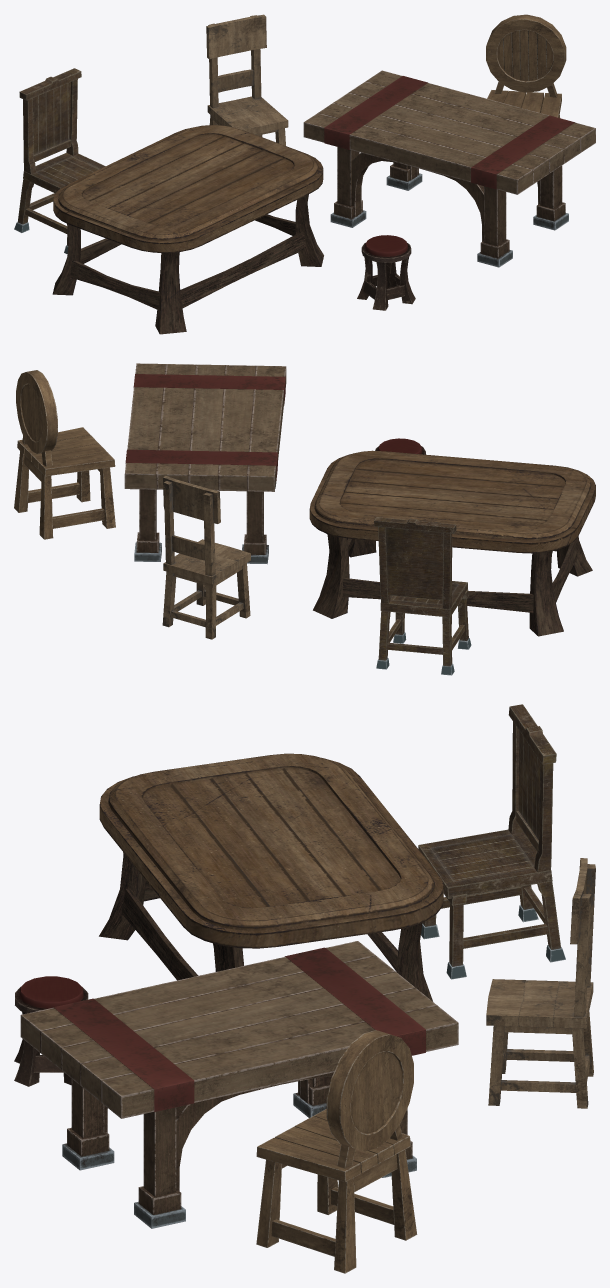
Rendered from medieval_tables__chairs (1).glb.
3 renders of one model, top to bottom at view 1: azimuth 30°, elevation 25°; view 2: azimuth 150°, elevation 25°; view 3: azimuth 270°, elevation 25°, orthographic. The views are drawn at different scales.
Visible parts, largest first — view 1: Cube.001, Cube.004, Cylinder.001, Cube, Cube.002, Cube.025, Cube.054, Cube.053, Cube.007, Cube.005, Cube.003, Cube.027 (+14 smaller); view 2: Cube.001, Cube.004, Cube, Cube.025, Cylinder.001, Cube.053, Cube.054, Cube.002, Cube.008, Cube.050, Cube.007, Cube.044 (+20 smaller); view 3: Cube.001, Cube.004, Cylinder.001, Cube.027, Cube.053, Cube.054, Cube.040, Cube, Cube.044, Cube.005, Cube.002, Cube.028 (+22 smaller).
Part boxes in pixels (x1=…): Cube.001: x1=53, y1=125, x2=323, y2=252; Cube.004: x1=303, y1=70, x2=595, y2=194; Cylinder.001: x1=486, y1=14, x2=566, y2=92; Cube: x1=52, y1=194, x2=323, y2=334; Cube.002: x1=80, y1=232, x2=305, y2=307; Cube.025: x1=33, y1=82, x2=71, y2=161; Cube.054: x1=324, y1=76, x2=427, y2=149; Cube.053: x1=471, y1=115, x2=574, y2=189; Cube.007: x1=206, y1=14, x2=266, y2=59; Cube.005: x1=477, y1=186, x2=512, y2=267; Cube.003: x1=70, y1=214, x2=295, y2=309; Cube.027: x1=23, y1=153, x2=105, y2=193; Cube.001: x1=309, y1=450, x2=595, y2=553; Cube.004: x1=124, y1=363, x2=286, y2=491; Cube: x1=313, y1=534, x2=592, y2=636; Cube.025: x1=385, y1=527, x2=443, y2=600; Cylinder.001: x1=16, y1=370, x2=57, y2=453; Cube.053: x1=133, y1=374, x2=285, y2=405; Cube.054: x1=125, y1=449, x2=277, y2=480; Cube.002: x1=342, y1=550, x2=556, y2=612; Cube.008: x1=163, y1=481, x2=215, y2=576; Cube.050: x1=134, y1=489, x2=161, y2=561; Cube.007: x1=163, y1=476, x2=220, y2=523; Cube.044: x1=14, y1=451, x2=53, y2=539; Cube.001: x1=99, y1=753, x2=443, y2=948; Cube.004: x1=20, y1=941, x2=458, y2=1118; Cylinder.001: x1=326, y1=1030, x2=413, y2=1151; Cube.027: x1=418, y1=829, x2=552, y2=898; Cube.053: x1=53, y1=998, x2=194, y2=1111; Cube.054: x1=284, y1=947, x2=425, y2=1055; Cube.040: x1=134, y1=1107, x2=185, y2=1228; Cube: x1=99, y1=852, x2=432, y2=1001; Cube.044: x1=334, y1=1150, x2=417, y2=1273; Cube.005: x1=62, y1=1079, x2=114, y2=1170; Cube.002: x1=121, y1=889, x2=398, y2=980; Cube.028: x1=508, y1=722, x2=553, y2=872.
Size of the model in its own units: 3.75 by 0.9972 by 2.41.
Materials: 6 (6 with a texture image).
